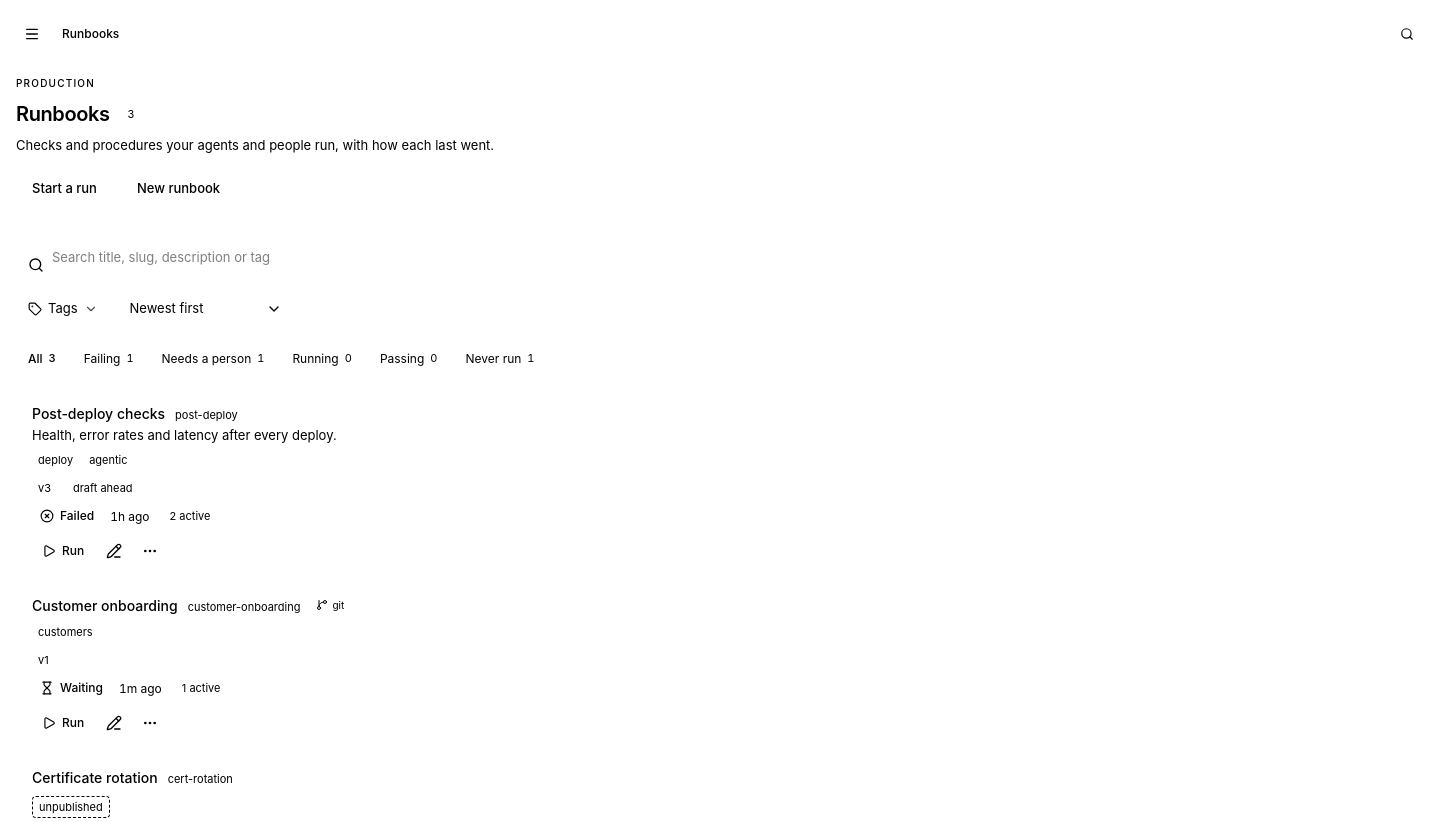
runbooks list (UI-1) › searches on the server, debounced
Check: the link "Post-deploy checks" is shown, box top-left (32, 403), bottom-right (165, 424)
In the search field named "Search runbooks": (720, 257) top-left (16, 235), bottom-right (1424, 279), type "onboard"
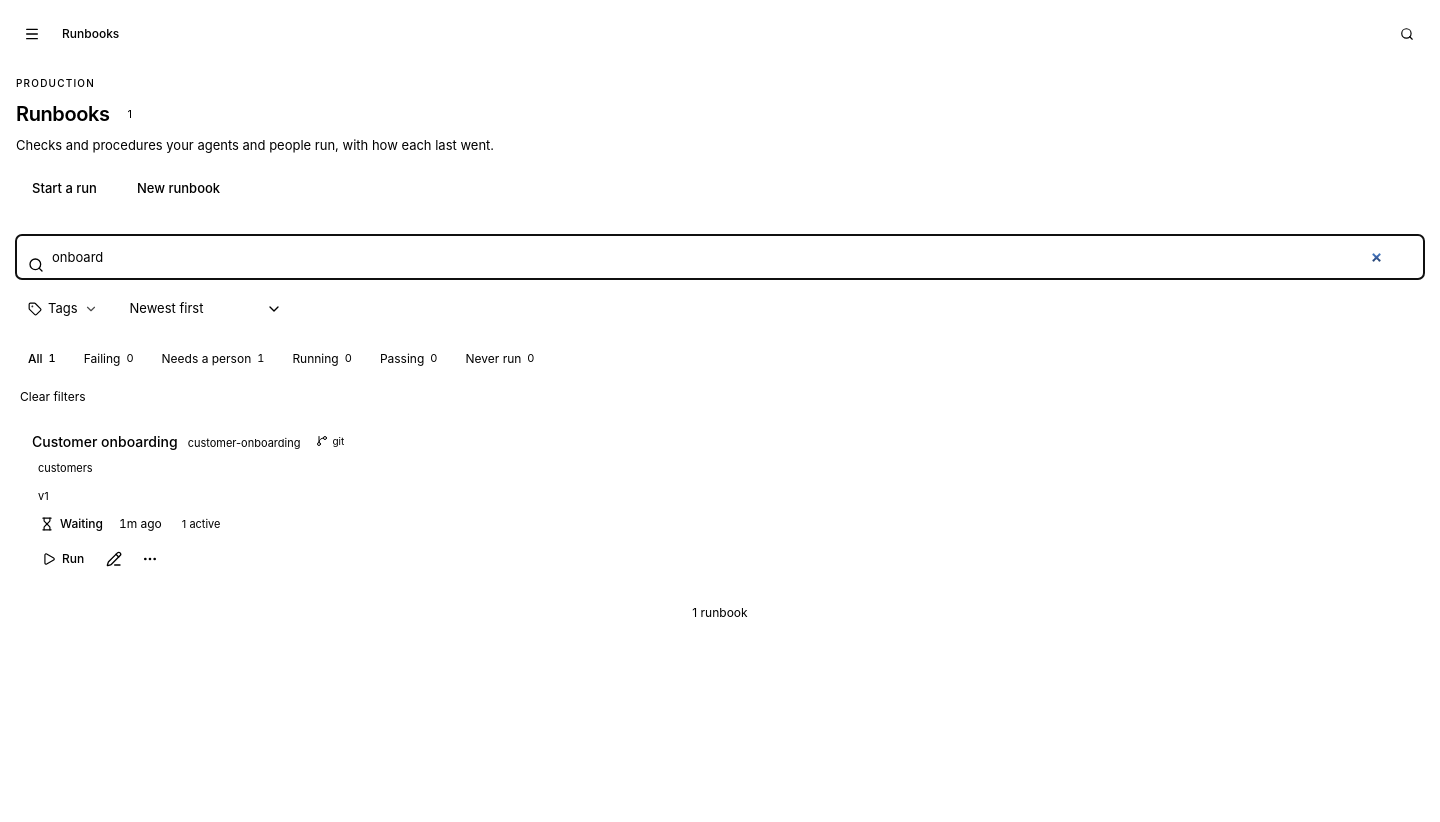
Check: the link "Customer onboarding" is shown, box top-left (32, 431), bottom-right (178, 452)
Check: the link "Post-deploy checks" is gone
